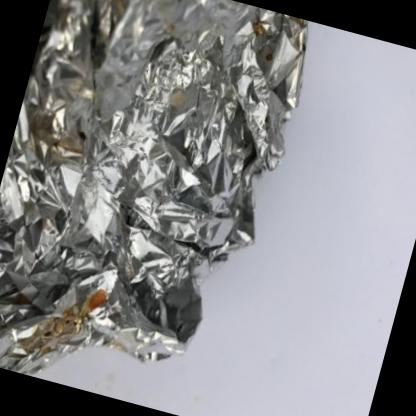Metal: (0, 0, 306, 373)
